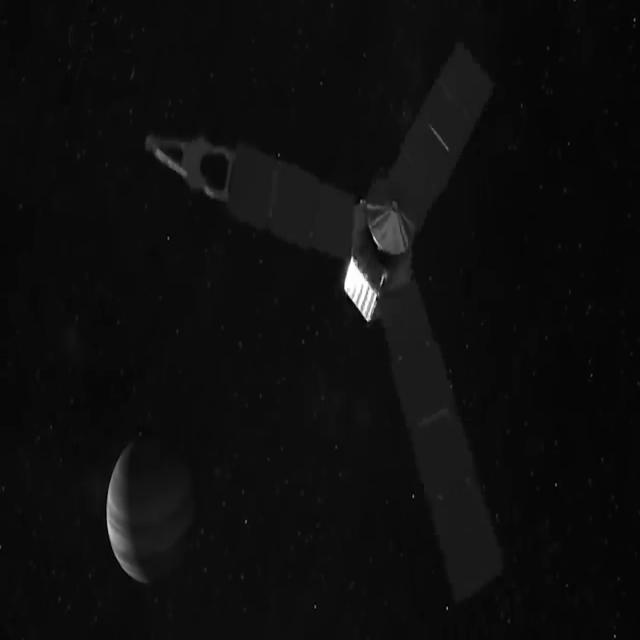satellite: (137, 0, 537, 640)
